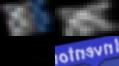stone: (55, 0, 119, 36), (0, 0, 55, 36)
zombie: (0, 37, 55, 66)
